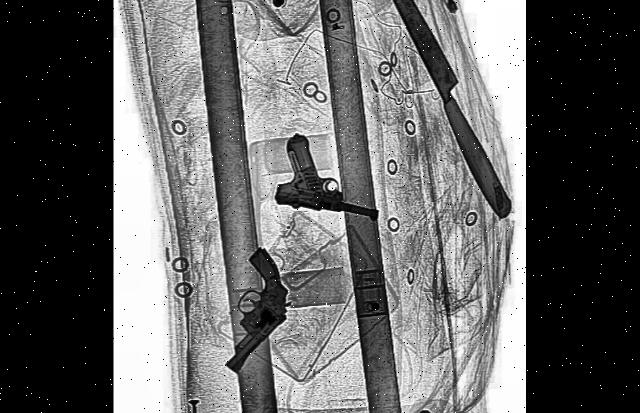Gun: (204, 239, 295, 384), (274, 131, 381, 226)
Knife: (363, 0, 516, 227)
